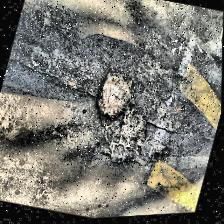pothole: (91, 68, 141, 128)
